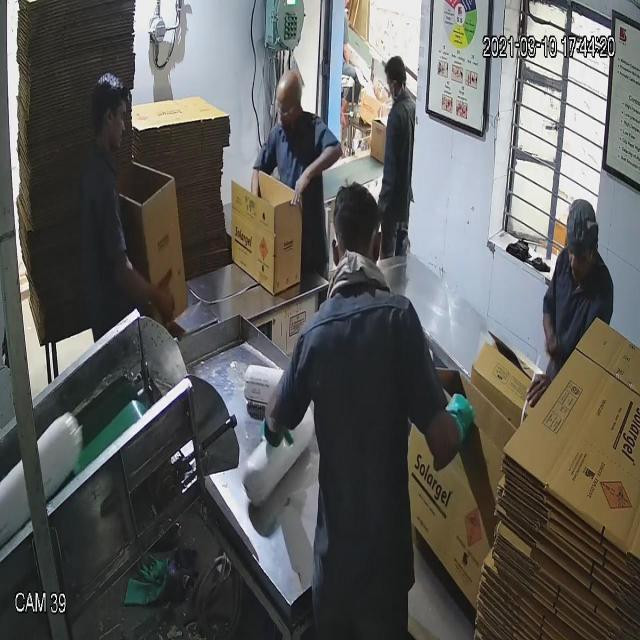No_Gloves: (61, 65, 314, 288)
